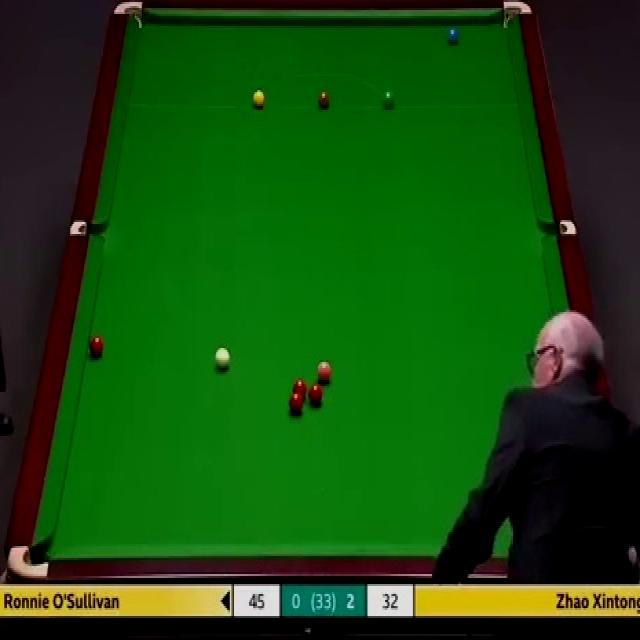blue-ball: (446, 27, 460, 46)
brown-ball: (317, 92, 330, 109)
green-ball: (382, 88, 396, 112)
pink-ball: (316, 361, 332, 384)
red-ball: (309, 383, 323, 410), (288, 392, 304, 414), (292, 378, 307, 401), (88, 336, 105, 356)
white-ball: (215, 349, 233, 377)
yellow-ball: (252, 89, 266, 110)
